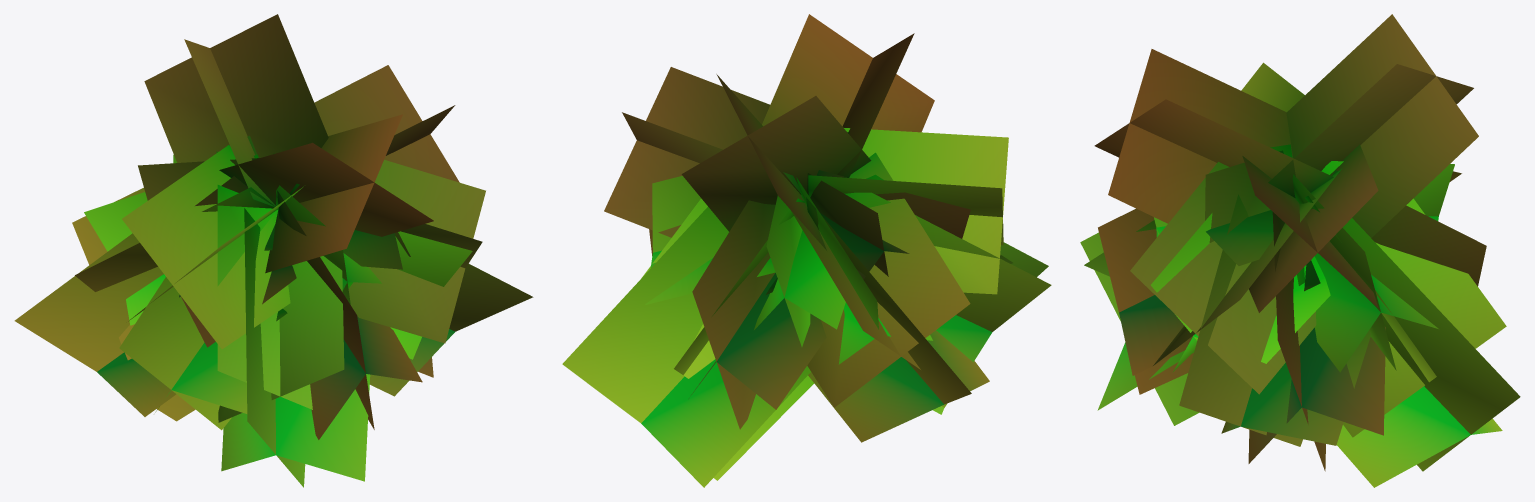
The model's file is Super_11_7.fbx.
3 views of the same model, side by side, from view 1: azimuth 30°, elevation 25°; view 2: azimuth 150°, elevation 25°; view 3: azimuth 270°, elevation 25° (orthographic). The views are drawn at different scales.
Visible parts, largest first — view 1: Super_11_7; view 2: Super_11_7; view 3: Super_11_7.
Boxes of the visible parts, left/top/right/bottom form: Super_11_7: left=14, top=14, right=533, bottom=487; Super_11_7: left=562, top=14, right=1051, bottom=487; Super_11_7: left=1080, top=14, right=1520, bottom=487.
Size of the model in its own units: 1346 by 1218 by 1172.
